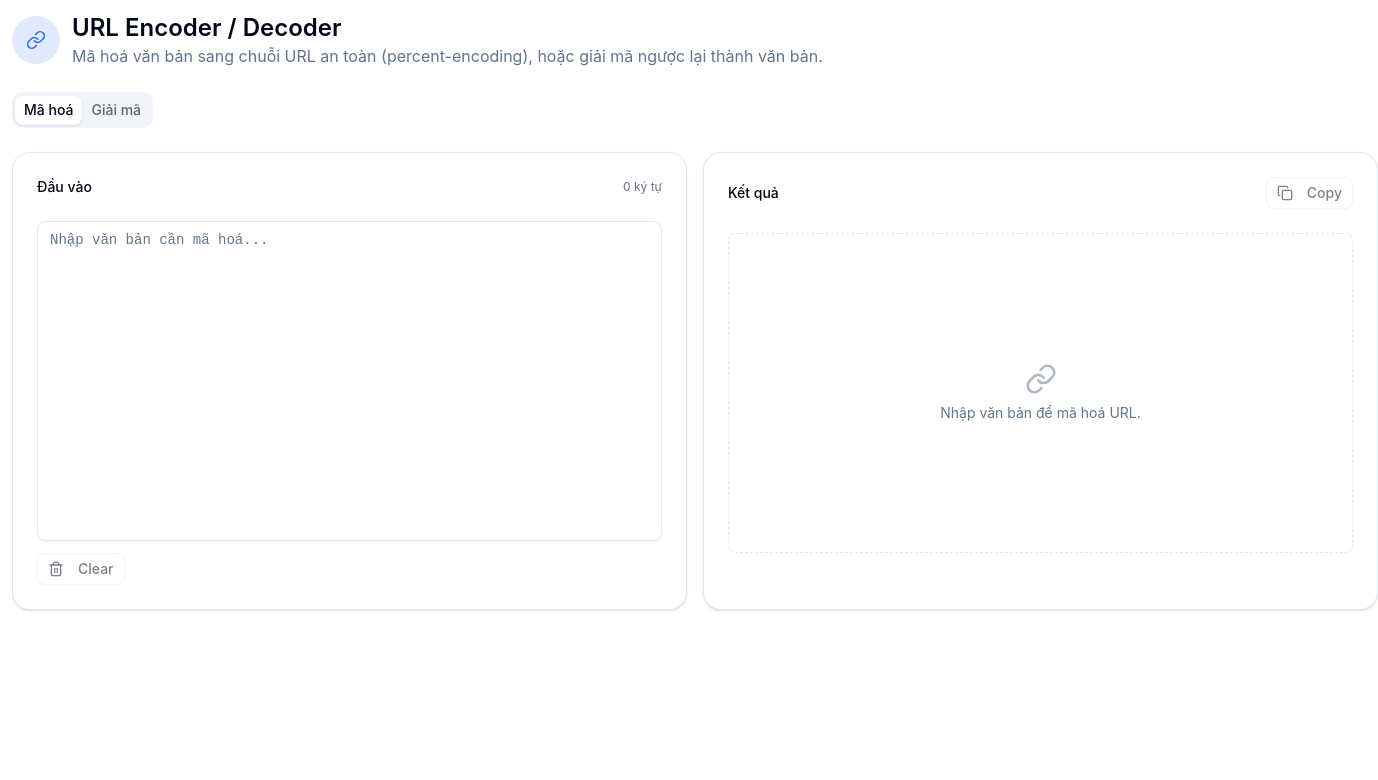
UrlEncoderDecoderScreen › starts in Encode mode and live-encodes typed text
Type "hello world" into the text box named "Đầu vào" at coordinates (350, 381), box [37, 221, 662, 541]
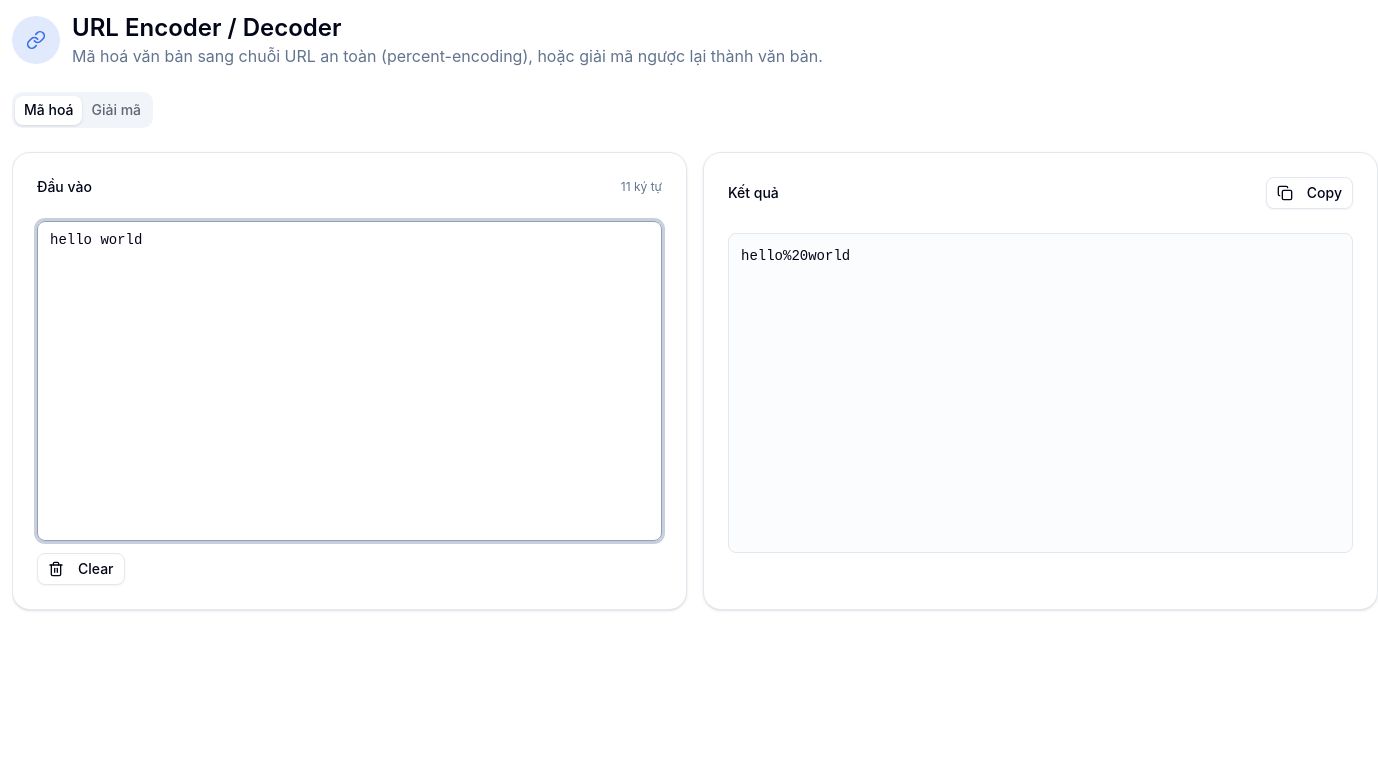
expect the text "hello%20world" is shown: met, box [728, 233, 1353, 553]
